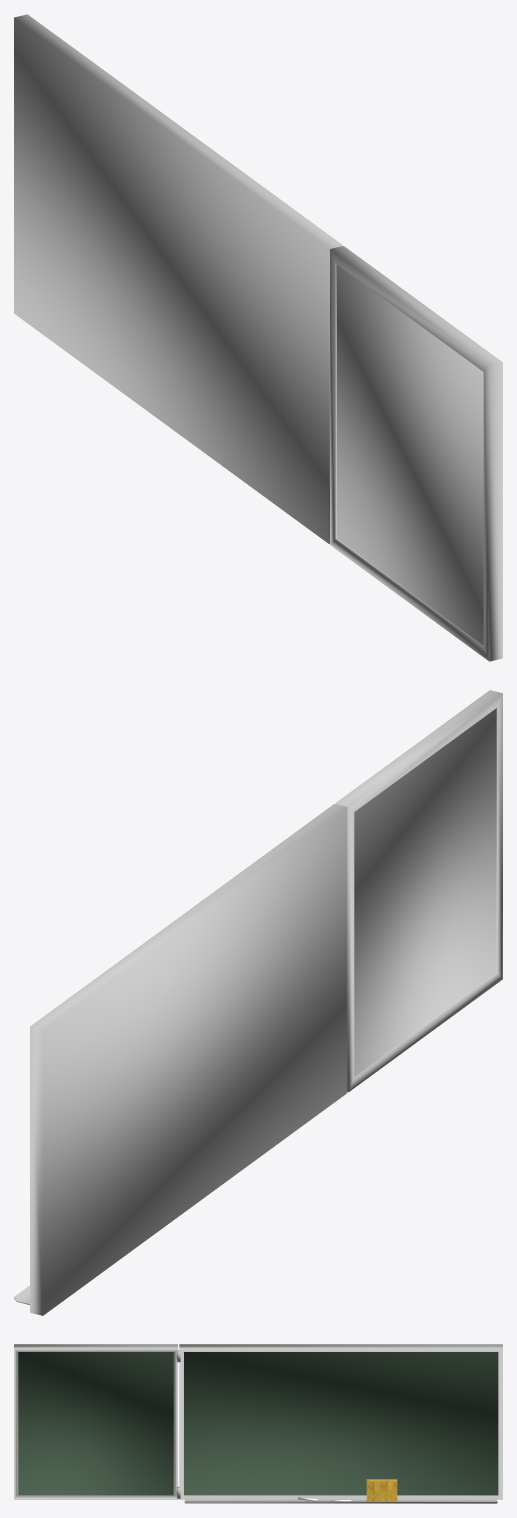
Rendered from tablica_lewa.fbx.
3 renders of one model, top to bottom at view 1: azimuth 30°, elevation 25°; view 2: azimuth 150°, elevation 25°; view 3: azimuth 270°, elevation 25°, orthographic. The views are drawn at different scales.
Parts seen in each view (by area): view 1: Cube.002; view 2: Cube.002; view 3: Cube.002.
Boxes of the visible parts, <box> form: Cube.002: <box>14,14,502,661</box>; Cube.002: <box>14,690,502,1315</box>; Cube.002: <box>14,1344,502,1503</box>.
Size of the model in its own units: 32.73 by 264 by 769.
Materials: 4 (1 with a texture image).
